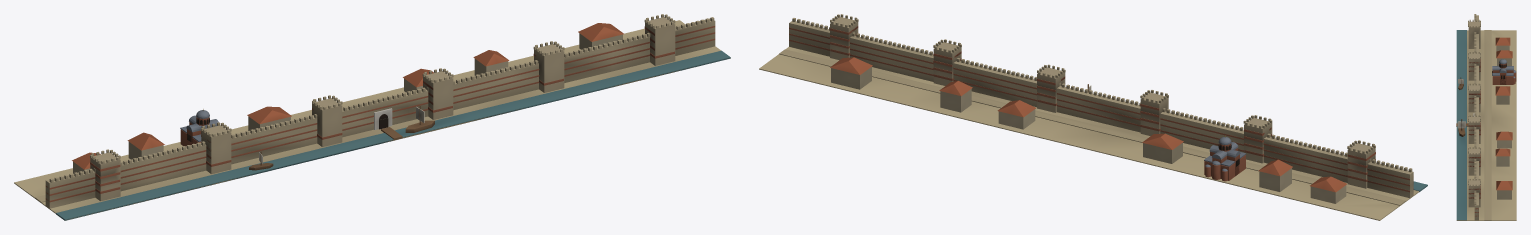
Rendered from sea-walls.glb.
3 renders of one model, left to right at view 1: azimuth 30°, elevation 25°; view 2: azimuth 150°, elevation 25°; view 3: azimuth 270°, elevation 25°, orthographic. The views are drawn at different scales.
Parts seen in each view (by area): view 1: p1_wall, p0_shore, p2_harbour; view 2: p1_wall, p0_shore, p2_harbour; view 3: p0_shore, p1_wall, p2_harbour.
Boxes of the visible parts, x1=… form: p1_wall: x1=45, y1=14, x2=715, y2=208; p0_shore: x1=14, y1=20, x2=730, y2=220; p2_harbour: x1=72, y1=23, x2=623, y2=173; p1_wall: x1=789, y1=14, x2=1413, y2=198; p0_shore: x1=759, y1=47, x2=1427, y2=220; p2_harbour: x1=830, y1=57, x2=1346, y2=203; p0_shore: x1=1456, y1=30, x2=1516, y2=220; p1_wall: x1=1468, y1=14, x2=1480, y2=220; p2_harbour: x1=1456, y1=37, x2=1516, y2=199.
Size of the model in its own units: 300 by 17.49 by 40.12.
